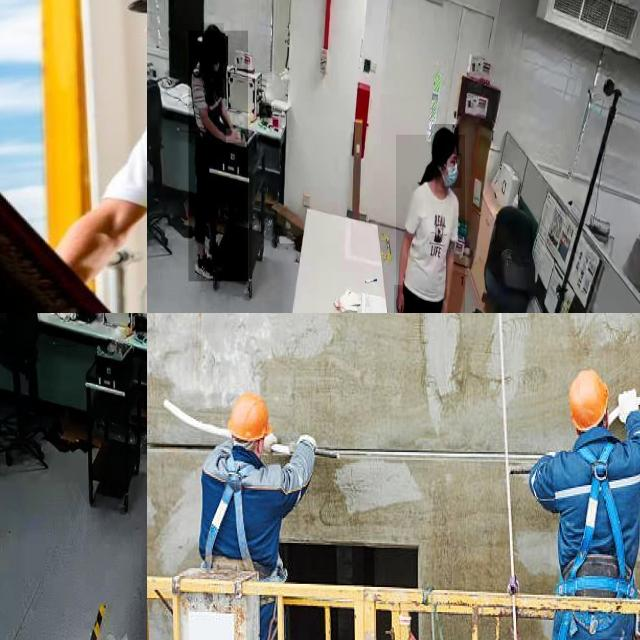Harness: (549, 442, 640, 640), (200, 447, 284, 598)
face_mask: (439, 153, 462, 188)
hand_noglove: (393, 284, 404, 313), (226, 128, 242, 144), (439, 293, 447, 313)
head_nohelmet: (431, 124, 459, 155), (202, 22, 224, 46)
person: (188, 31, 248, 282), (396, 134, 465, 313)
shoes: (194, 248, 217, 282)
